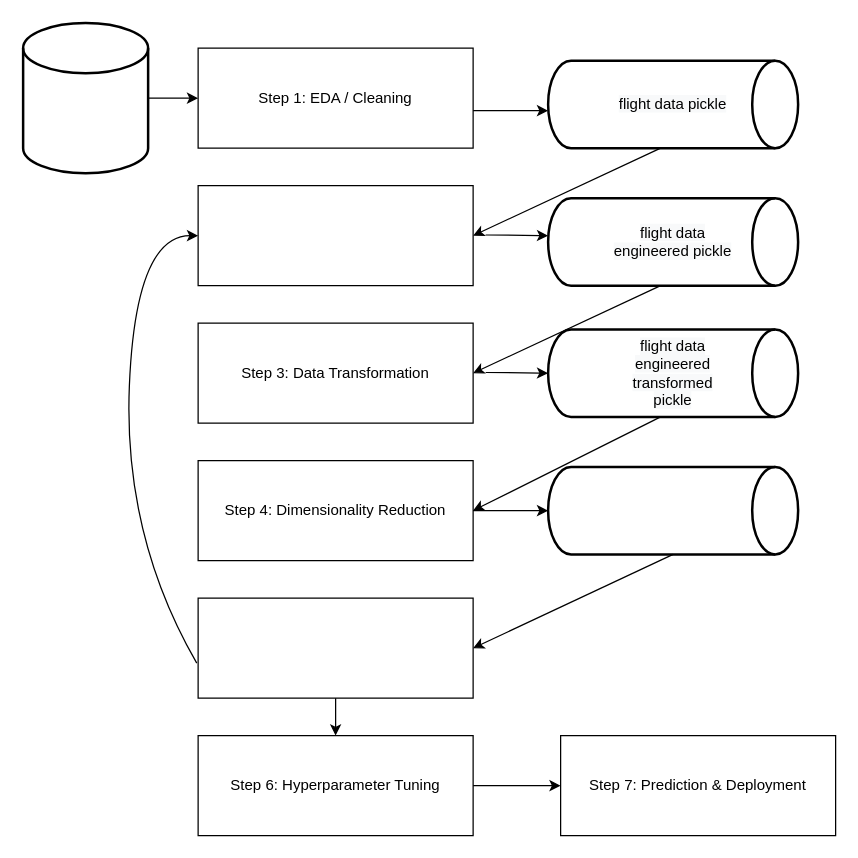
This 858x858 diagram has some shape labels left out. The centre of each missing label's shape, as x and y in pixels:
"iteration1,2,3....n pickles" goes at (672,510).
"random sample from flights table" goes at (85,97).
"Step 2: Feature Engineering" goes at (335,235).
"Step 5: Model Training" goes at (335,647).
